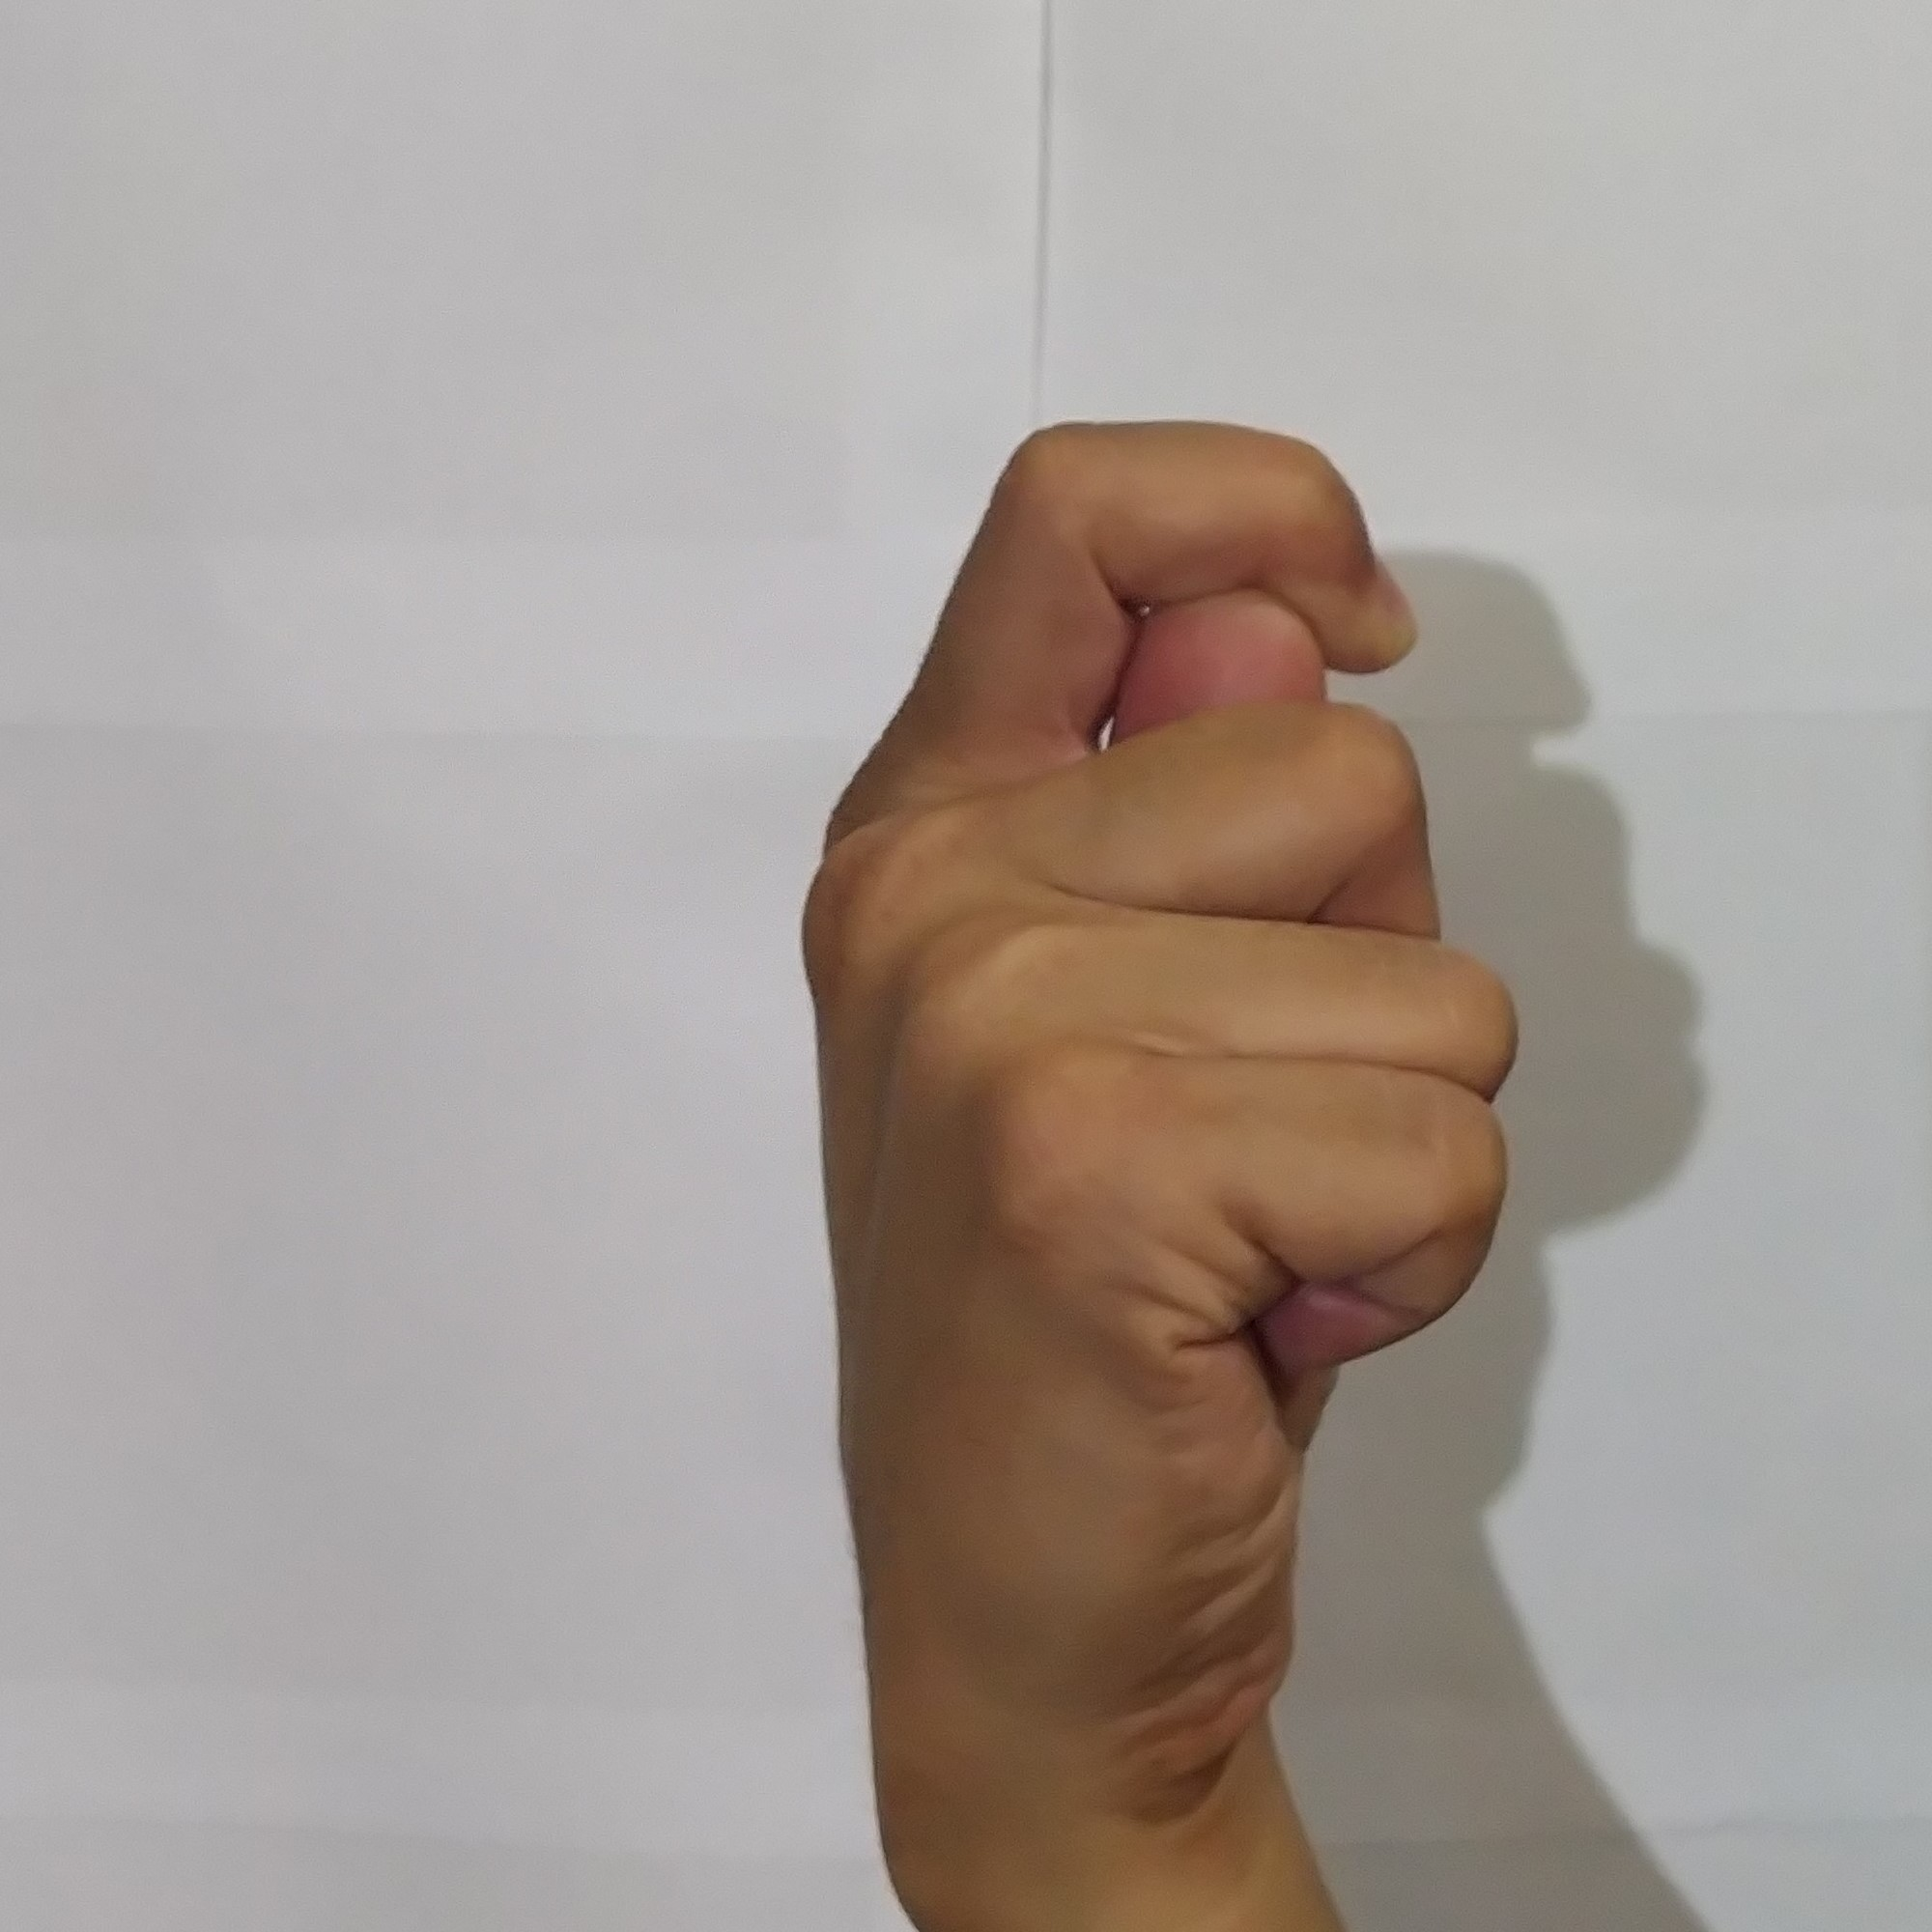T: (754, 372, 1552, 1789)
